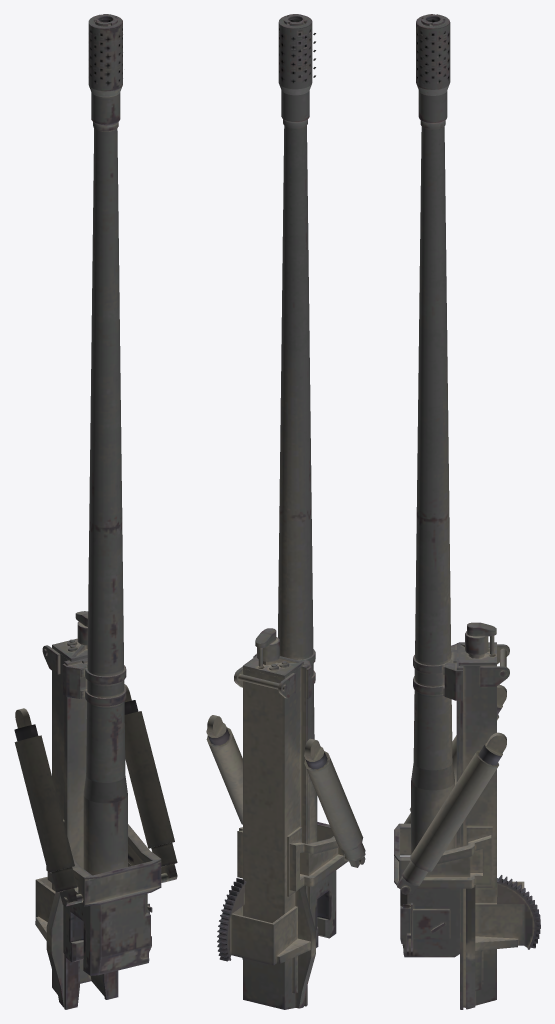
The model's file is Gun_01.glb.
The picture shows the model from 3 angles, left to right: view 1: azimuth 30°, elevation 25°; view 2: azimuth 150°, elevation 25°; view 3: azimuth 270°, elevation 25°; orthographic projection. The views are drawn at different scales.
Parts seen in each view (by area): view 1: set_0_group_0, set_0_group_1; view 2: set_0_group_0, set_0_group_1; view 3: set_0_group_0, set_0_group_1.
Part boxes in pixels (left/top/right/bottom): set_0_group_0: left=14, top=14, right=177, bottom=1009; set_0_group_1: left=14, top=684, right=177, bottom=904; set_0_group_0: left=208, top=14, right=365, bottom=1009; set_0_group_1: left=206, top=715, right=365, bottom=867; set_0_group_0: left=394, top=14, right=540, bottom=1009; set_0_group_1: left=397, top=684, right=506, bottom=895.
Size of the model in its own units: 1.12 by 8.57 by 1.16.
2 materials, 2 textured.
